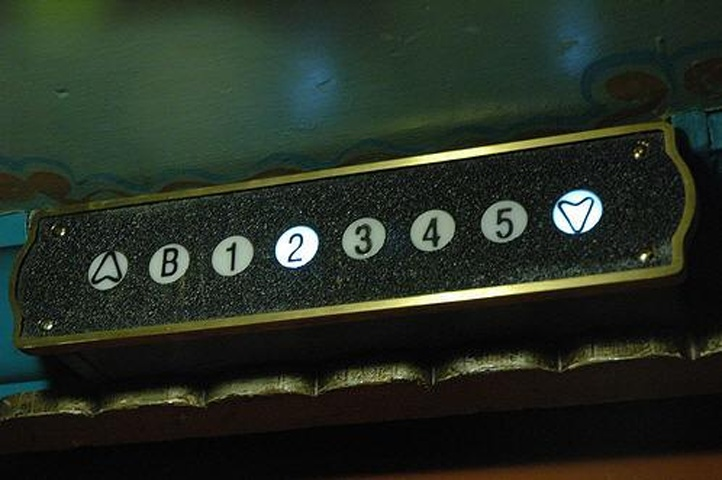1: (212, 235, 254, 277)
2: (275, 225, 319, 267)
3: (342, 217, 387, 260)
4: (410, 210, 456, 251)
5: (479, 201, 529, 245)
B: (149, 242, 190, 284)
down: (551, 189, 604, 236)
up: (86, 250, 129, 290)
